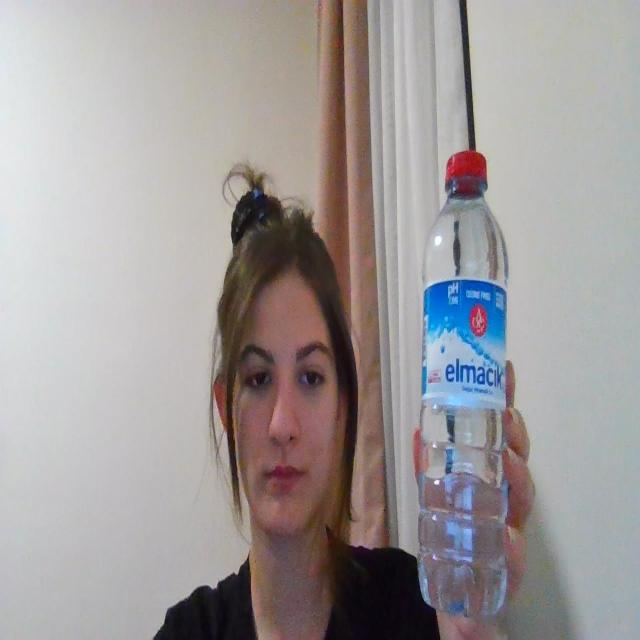bottle: (422, 148, 510, 619)
